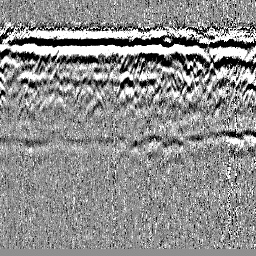cavity: (114, 70, 138, 99)
